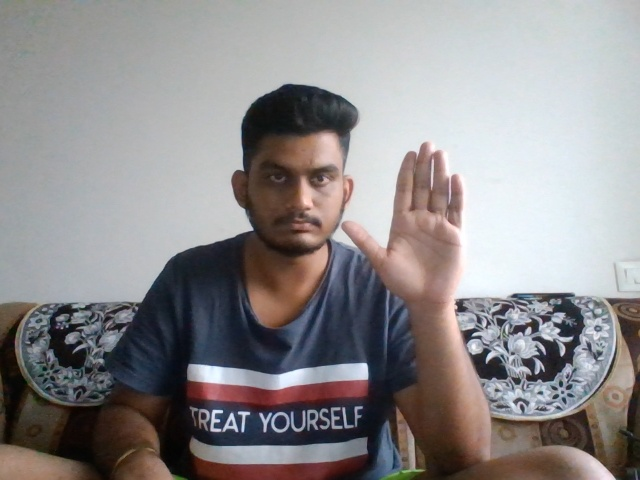Hello: (342, 133, 489, 304)
